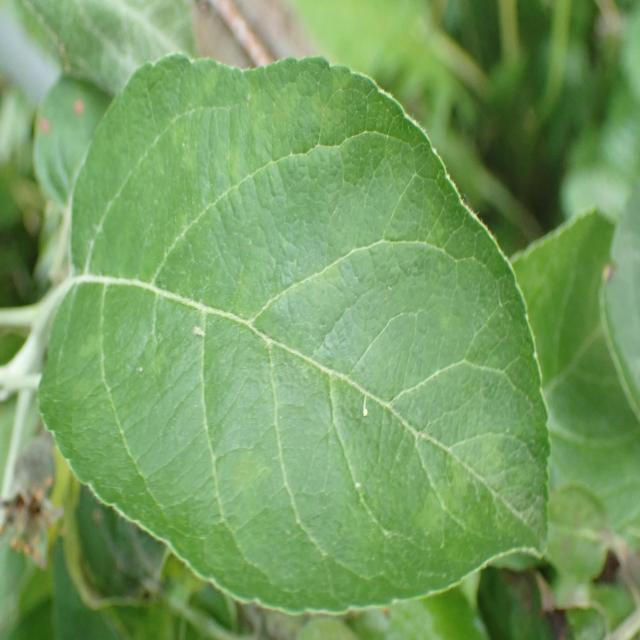scab: (86, 70, 546, 568)
